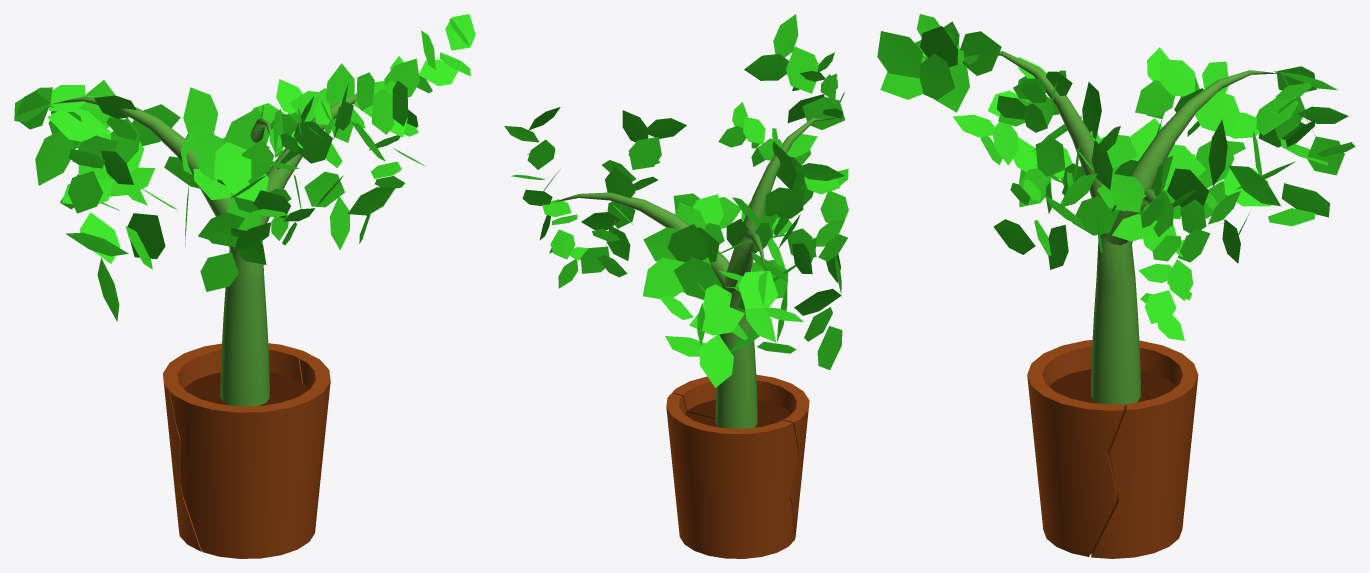
Rendered from broken plant.fbx.
The picture shows the model from 3 angles, left to right: view 1: azimuth 30°, elevation 25°; view 2: azimuth 150°, elevation 25°; view 3: azimuth 270°, elevation 25°; orthographic projection. The views are drawn at different scales.
Visible parts, largest first — view 1: Plane.001, Cylinder.002, Cylinder.001; view 2: Plane.001, Cylinder.001, Cylinder.002; view 3: Plane.001, Cylinder.001, Cylinder.002.
Boxes of the visible parts, x1=… form: Plane.001: x1=14, y1=14, x2=475, y2=406; Cylinder.002: x1=169, y1=355, x2=330, y2=558; Cylinder.001: x1=163, y1=343, x2=311, y2=551; Plane.001: x1=504, y1=14, x2=848, y2=428; Cylinder.001: x1=666, y1=393, x2=797, y2=558; Cylinder.002: x1=672, y1=374, x2=809, y2=538; Plane.001: x1=877, y1=14, x2=1355, y2=405; Cylinder.001: x1=1091, y1=340, x2=1198, y2=558; Cylinder.002: x1=1027, y1=340, x2=1124, y2=556.
Bounding box in the file's own units: 317 × 389 × 323.
